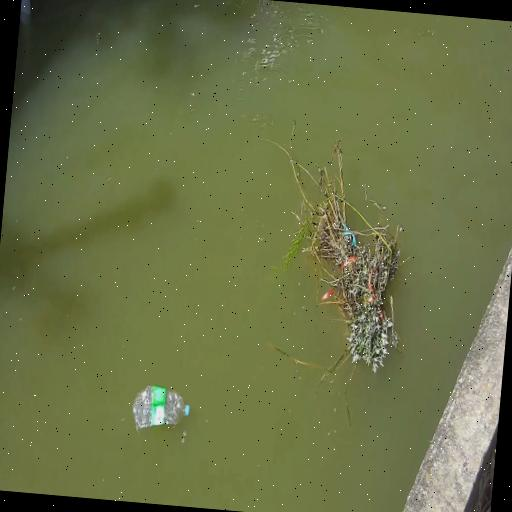plastic: (133, 386, 189, 429), (185, 405, 190, 416)
twig: (272, 140, 403, 424)
